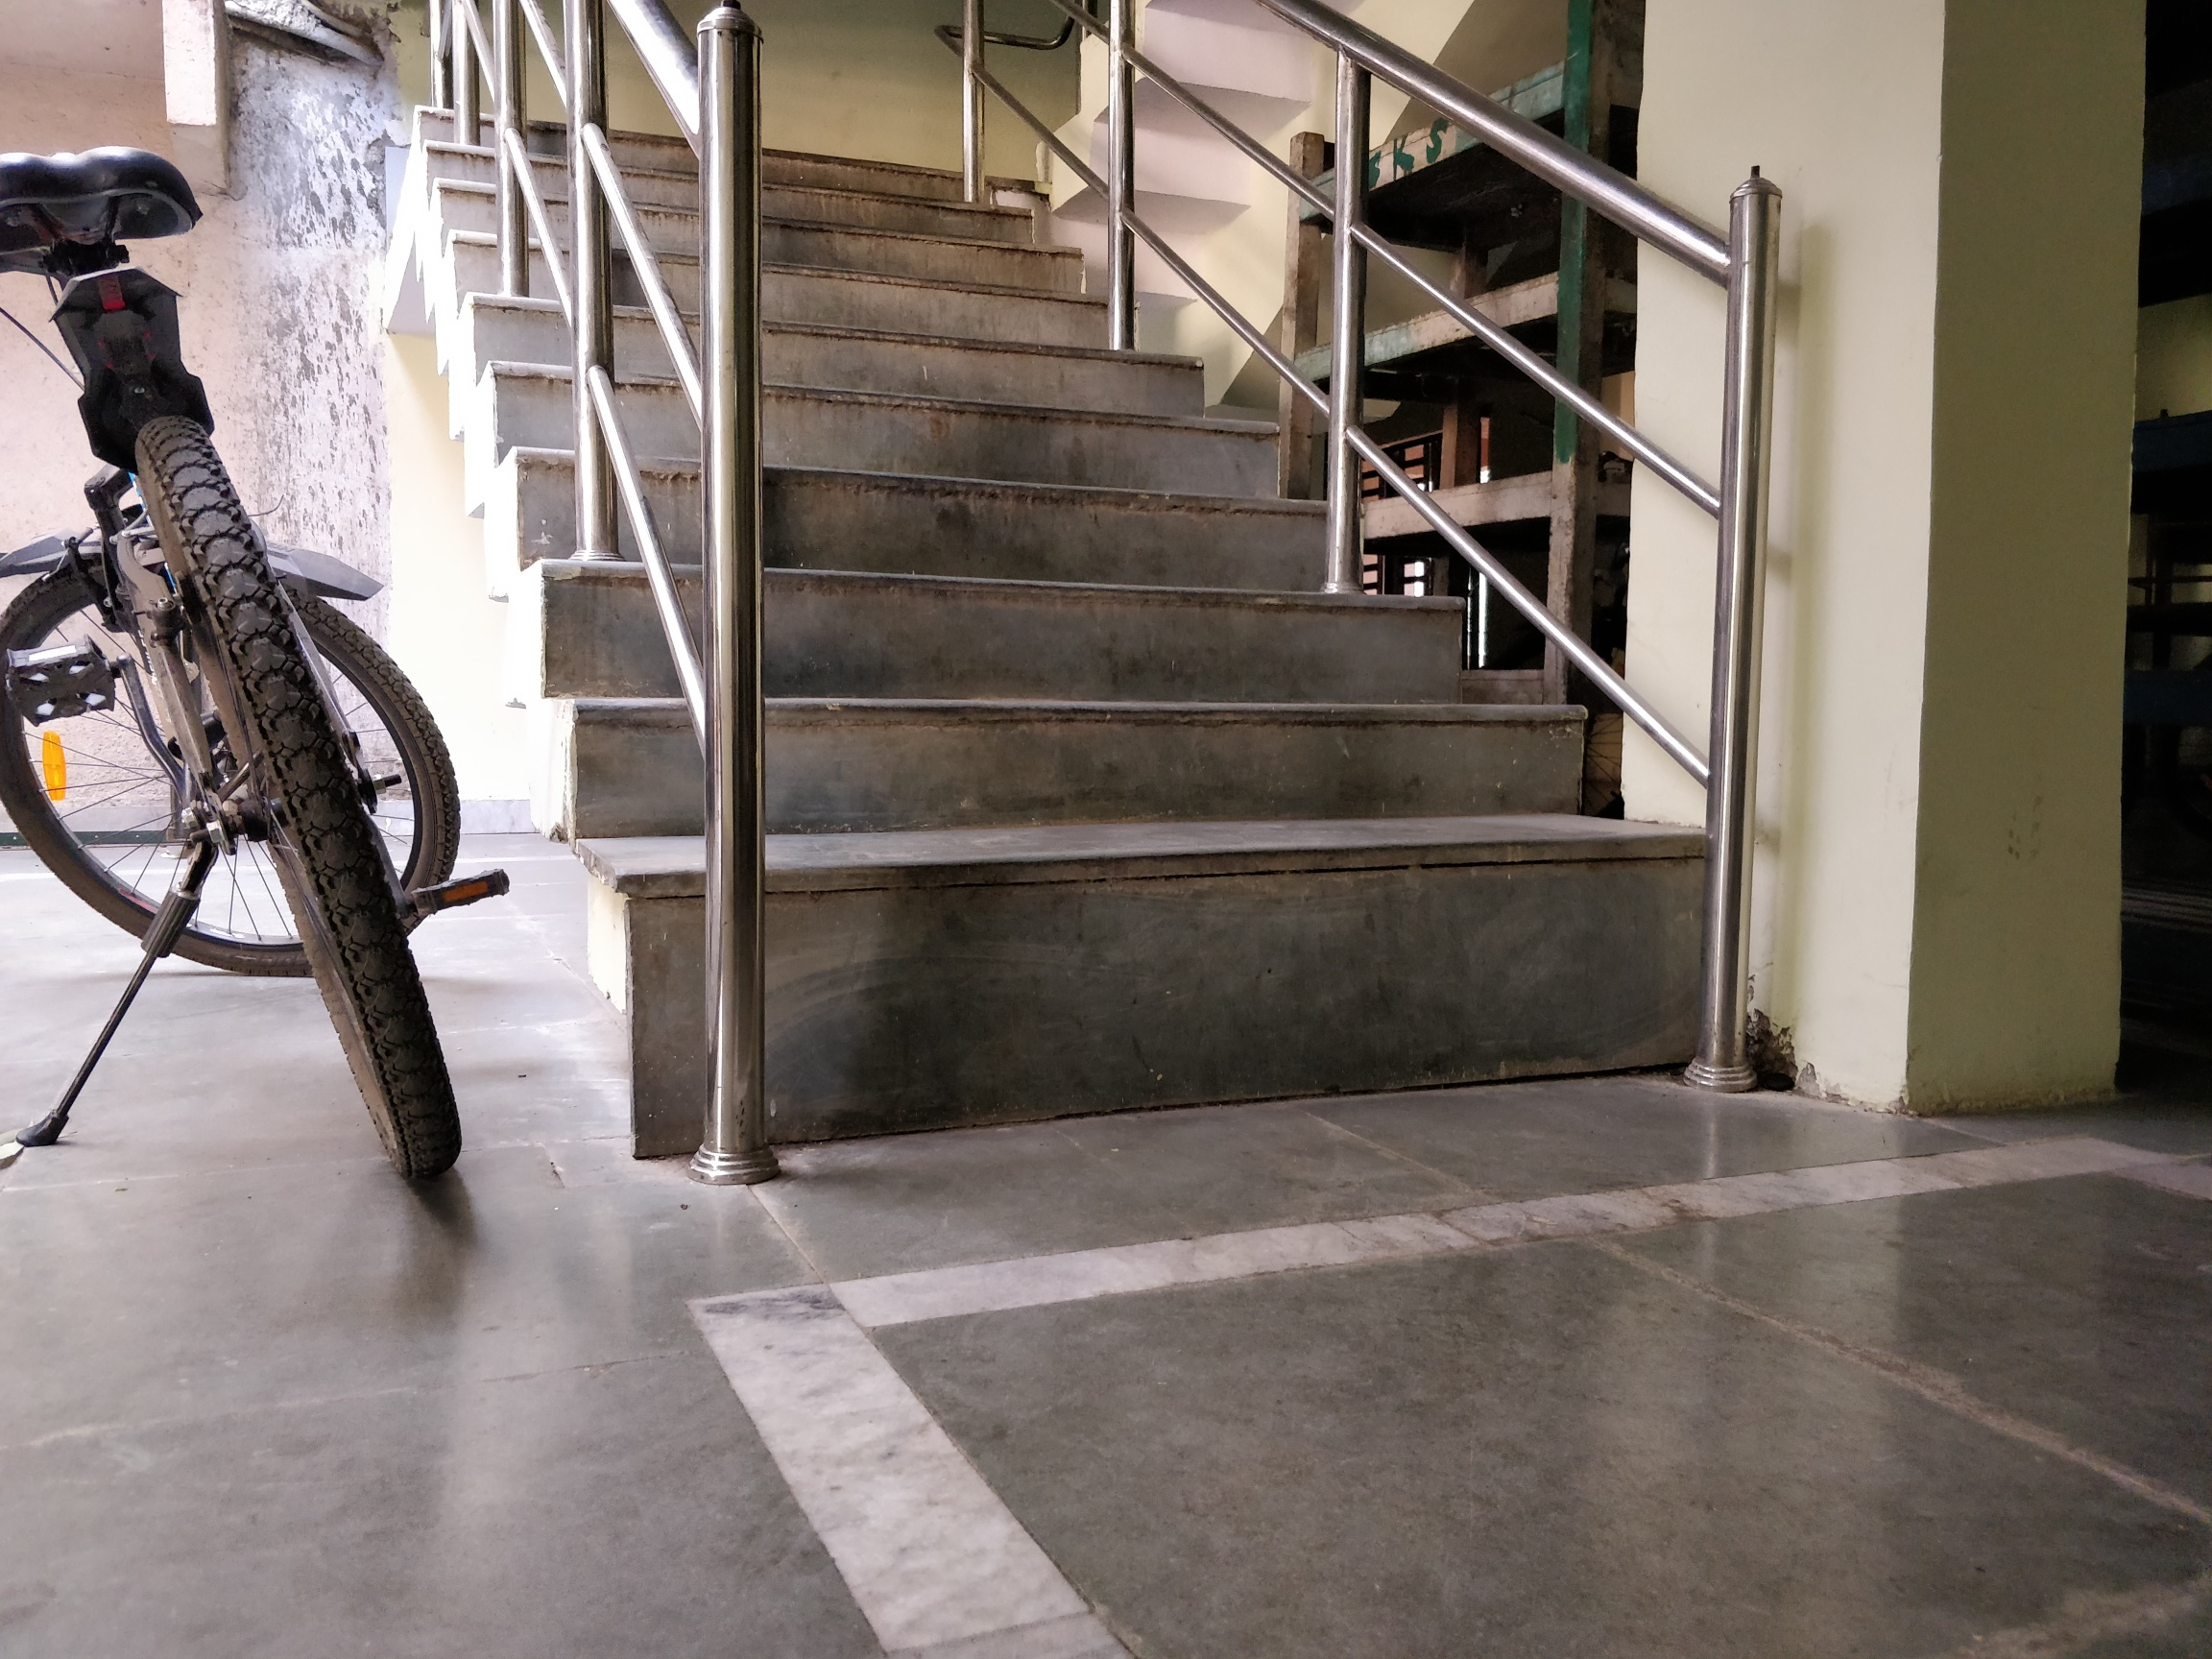stairs_up: (550, 138, 1730, 1136)
